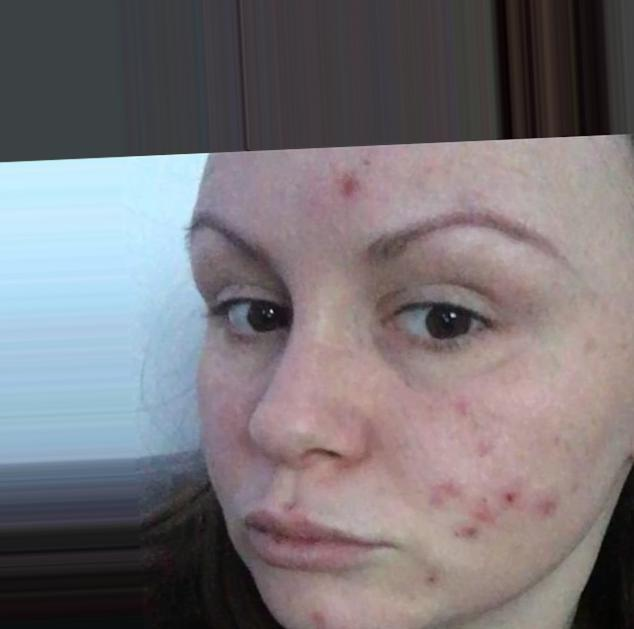Acne: (415, 479, 505, 596), (483, 481, 568, 540), (319, 165, 398, 228)
